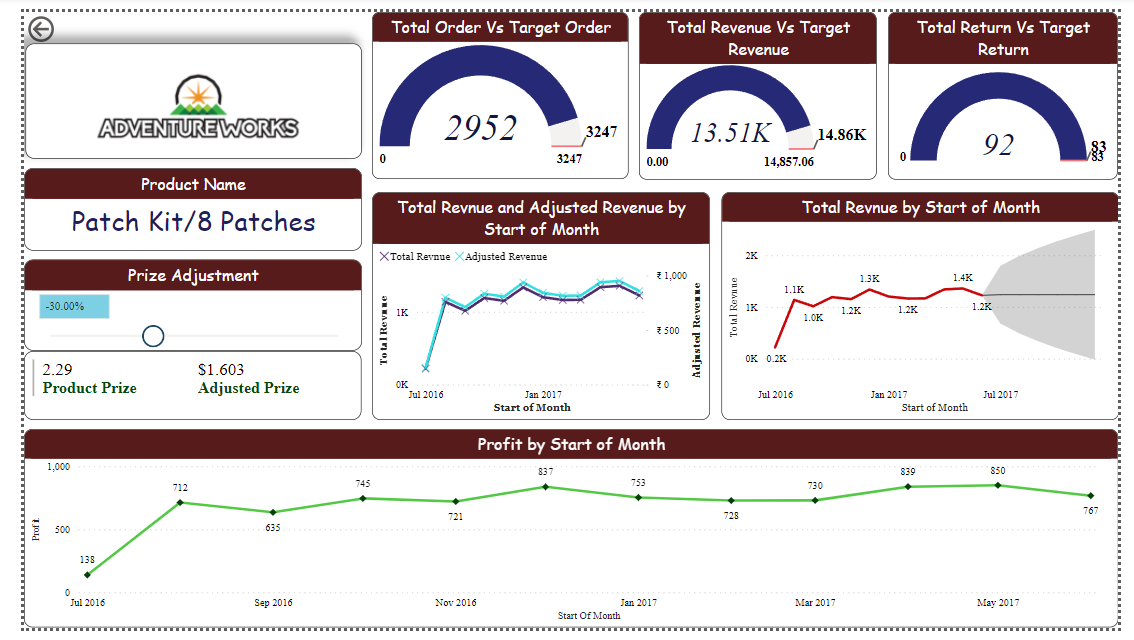

Layout of this report page (visuals, bound fields, positions):
{"tool":"powerbi","page":{"name":"Product Detail","canvas":[1280,720],"ordinal":1},"visuals":[{"type":"card","title":"Product Name","fields":{"Values":["Min(Products_Dim.ProductName)"]},"box":[0,181.7,395,96.7],"z":0},{"type":"gauge","title":"Total Order Vs Target Order","fields":{"Y":["Sales_Fact.Total Order"],"MaxValue":["Calendar_Dim.Target Order"],"TargetValue":["Calendar_Dim.Target Order"]},"box":[406.6,0,300,195.1],"z":1000},{"type":"gauge","title":"Total Revenue Vs Target Revenue","fields":{"MaxValue":["Calendar_Dim.Target Revnue"],"TargetValue":["Calendar_Dim.Target Revnue"],"Y":["Sales_Fact.Total Revnue 2"]},"box":[720,0,278.3,195.8],"z":2000},{"type":"gauge","title":"Total Return Vs Target Return","fields":{"Y":["Returns_Fact.Total Return"],"MaxValue":["Calendar_Dim.Target Return"],"TargetValue":["Calendar_Dim.Target Return"]},"box":[1011.2,0,268.6,195.8],"z":3000},{"type":"actionButton","box":[0,0,100,40],"z":4000},{"type":"multiRowCard","fields":{"Values":["Sum(Products_Dim.ProductPrice)","Sales_Fact.Adjusted Prize"]},"box":[0,397.3,394.5,80.8],"z":5000},{"type":"slicer","title":"Prize Adjustment","fields":{"Values":["Prize Adjustment.Prize Adjustment"]},"box":[0,290,395,106.7],"z":6000},{"type":"image","box":[1.6,36.1,393.4,134.4],"z":7000},{"type":"lineChart","fields":{"Y":["Sales_Fact.Total Revnue"],"Y2":["Sales_Fact.Adjusted Revenue"],"Category":["Calendar_Dim.Start of Month"]},"box":[406.7,210,395,266.7],"z":8000},{"type":"lineChart","fields":{"Category":["Calendar_Dim.Start of Month"],"Y":["Calendar_Dim.Profit"]},"box":[0,488.3,1280,231.7],"z":9000},{"type":"lineChart","fields":{"Category":["Calendar_Dim.Start of Month"],"Y":["Sales_Fact.Total Revnue"]},"box":[815,210,465,266.7],"z":10000}]}

Visuals, with their boxes in screenshot pixels (x1, y1, x2, y2), scaled from the page's 1280x720 canvas onto the 1134x640 screenshot:
"Product Name" card: left=0, top=162, right=350, bottom=247
"Total Order Vs Target Order" gauge: left=360, top=0, right=626, bottom=173
"Total Revenue Vs Target Revenue" gauge: left=638, top=0, right=884, bottom=174
"Total Return Vs Target Return" gauge: left=896, top=0, right=1133, bottom=174
actionButton: left=0, top=0, right=89, bottom=36
multiRowCard - Sum(Products_Dim.ProductPrice) x Sales_Fact.Adjusted Prize: left=0, top=353, right=350, bottom=425
"Prize Adjustment" slicer: left=0, top=258, right=350, bottom=353
image: left=1, top=32, right=350, bottom=152
lineChart - Sales_Fact.Total Revnue x Sales_Fact.Adjusted Revenue: left=360, top=187, right=710, bottom=424
lineChart - Calendar_Dim.Start of Month x Calendar_Dim.Profit: left=0, top=434, right=1133, bottom=639
lineChart - Calendar_Dim.Start of Month x Sales_Fact.Total Revnue: left=722, top=187, right=1133, bottom=424
